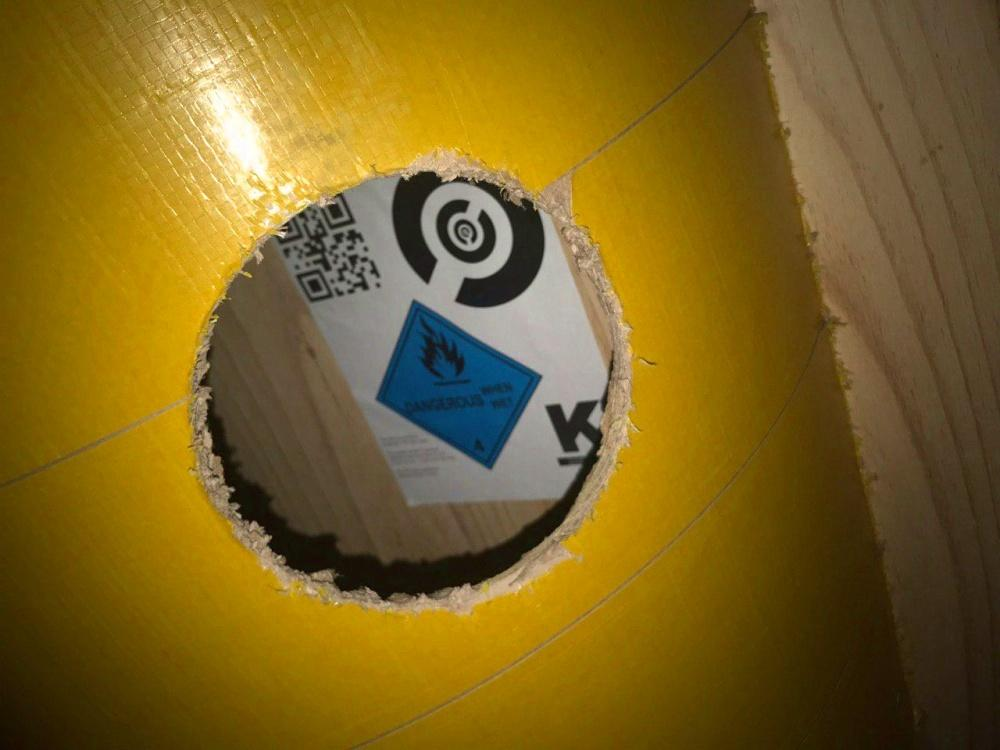dangerous-when-wet: (370, 298, 544, 476)
